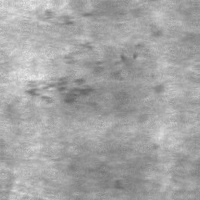rolled-in_scale: (24, 41, 126, 105)
